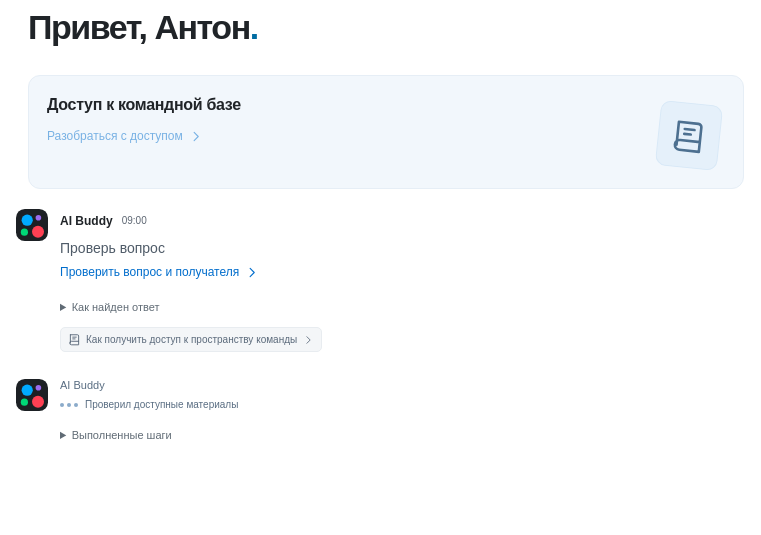
Продолжение диалога › opens the precise prepared question and shows actual backend progress
The width and height of the screenshot is (761, 535).
Click the button "Проверить вопрос и получателя".
click(160, 272)  # box [60,263,259,282]
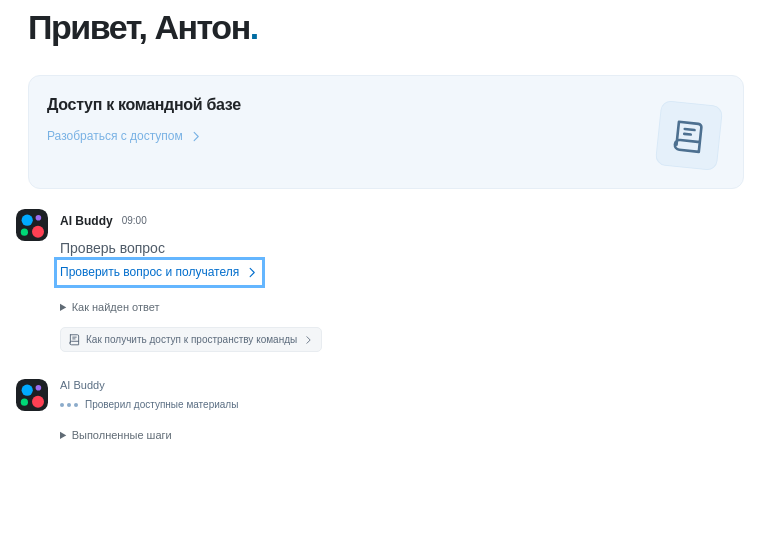
Click the button "Как получить доступ к пространству команды".
click(191, 340)  # box [60,327,322,352]
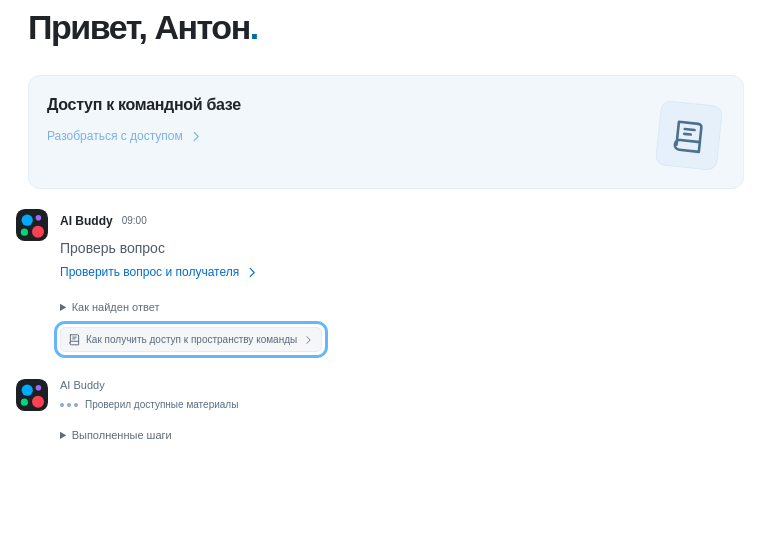
Click the heading "Как найден ответ".
click(116, 307)  # box [72,301,159,313]
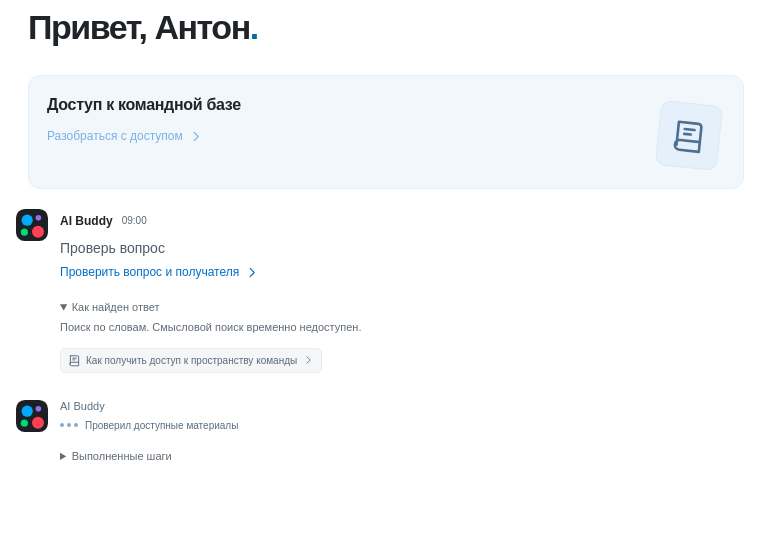
Expected: the text "Смысловой поиск временно недоступен" is shown, [60,321,362,333]
Expected: the message shows "Проверил доступные материалы", [85,420,238,431]
Click the heading "Выполненные шаги".
click(122, 456)  # box [72,450,172,462]
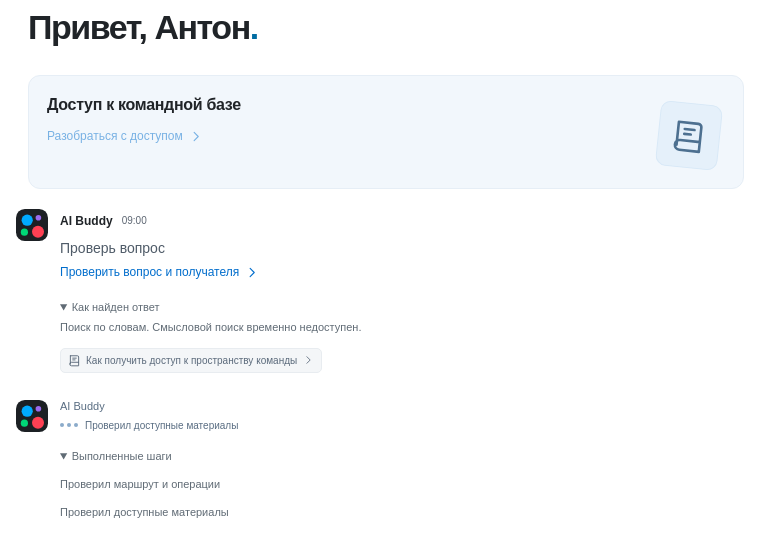
Now the text "Проверил маршрут и операции" is shown, box [60,478,220,490]
